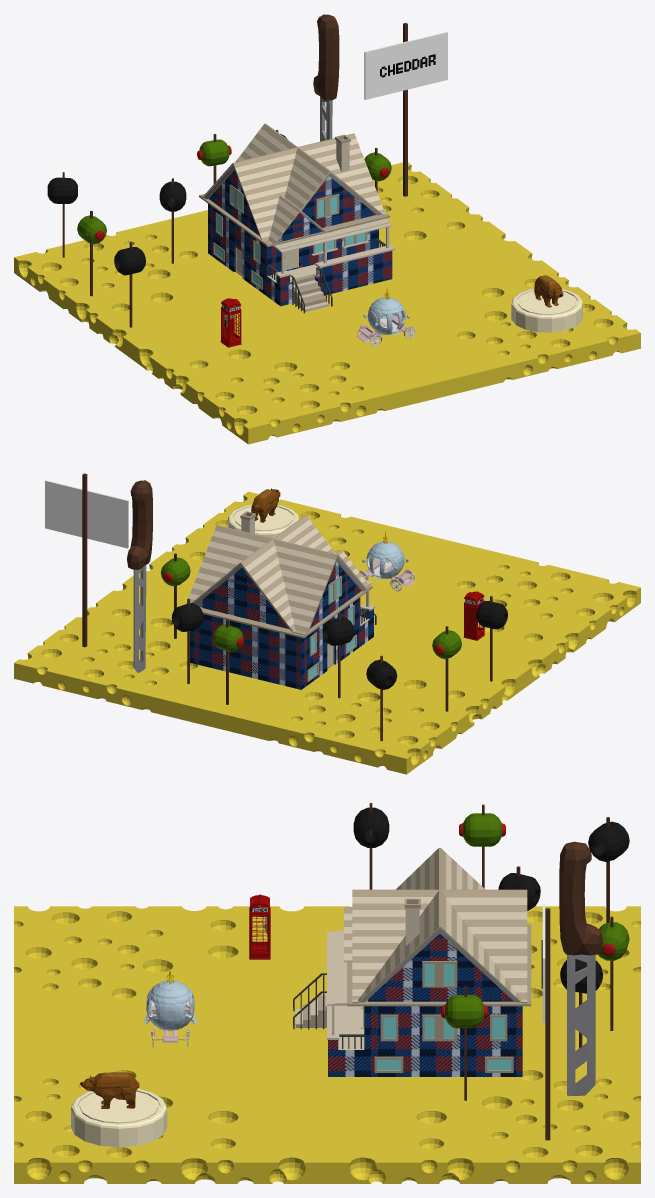
The picture shows the model from 3 angles, top to bottom: view 1: azimuth 30°, elevation 25°; view 2: azimuth 150°, elevation 25°; view 3: azimuth 270°, elevation 25°; orthographic projection. The views are drawn at different scales.
Parts seen in each view (by area): view 1: Cube.022, Cube.171, Cube.023, Cylinder.016, Cube.024, VEHICLES_FANTASY_CARRIAGE, Sphere.017, OBJRANDOM_PHONEBOOTH, Sphere.016, Sphere.020, Sphere.018, Sphere.022 (+2 smaller); view 2: Cube.022, Cube.171, Cube.023, Cube.024, VEHICLES_FANTASY_CARRIAGE, Cylinder.016, Sphere.017, Sphere.020, Sphere.021, Sphere.016, Sphere.018, Sphere.022 (+3 smaller); view 3: Cube.022, Cube.171, Cube.024, Cylinder.016, VEHICLES_FANTASY_CARRIAGE, Cube.023, Sphere.019, Sphere.016, ANIMAL_OSO, Sphere.018, Sphere.017, OBJRANDOM_PHONEBOOTH (+3 smaller).
Part boxes in pixels (left/top/right/bottom): Cube.022: left=14, top=162, right=640, bottom=444; Cube.171: left=199, top=123, right=395, bottom=313; Cube.023: left=364, top=23, right=447, bottom=196; Cylinder.016: left=511, top=288, right=582, bottom=332; Cube.024: left=313, top=14, right=339, bottom=141; VEHICLES_FANTASY_CARRIAGE: left=356, top=288, right=415, bottom=347; Sphere.017: left=114, top=242, right=145, bottom=327; OBJRANDOM_PHONEBOOTH: left=220, top=298, right=241, bottom=347; Sphere.016: left=47, top=172, right=77, bottom=257; Sphere.020: left=159, top=178, right=186, bottom=263; Sphere.018: left=77, top=210, right=106, bottom=296; Sphere.022: left=197, top=134, right=231, bottom=183; Cube.022: left=14, top=491, right=640, bottom=774; Cube.171: left=184, top=511, right=376, bottom=689; Cube.023: left=45, top=473, right=128, bottom=647; Cube.024: left=127, top=480, right=152, bottom=672; VEHICLES_FANTASY_CARRIAGE: left=359, top=531, right=415, bottom=591; Cylinder.016: left=228, top=504, right=298, bottom=538; Sphere.017: left=476, top=596, right=507, bottom=681; Sphere.020: left=322, top=612, right=354, bottom=698; Sphere.021: left=171, top=598, right=203, bottom=683; Sphere.016: left=366, top=655, right=397, bottom=741; Sphere.018: left=432, top=626, right=461, bottom=711; Sphere.022: left=212, top=619, right=244, bottom=704; Cube.022: left=14, top=906, right=640, bottom=1183; Cube.171: left=293, top=848, right=531, bottom=1076; Cube.024: left=559, top=841, right=602, bottom=1095; Cylinder.016: left=71, top=1088, right=167, bottom=1147; VEHICLES_FANTASY_CARRIAGE: left=144, top=968, right=197, bottom=1047; Cube.023: left=541, top=904, right=550, bottom=1140; Sphere.019: left=441, top=986, right=487, bottom=1100; Sphere.016: left=588, top=817, right=629, bottom=922; ANIMAL_OSO: left=80, top=1072, right=139, bottom=1108; Sphere.018: left=459, top=804, right=505, bottom=888; Sphere.017: left=353, top=803, right=389, bottom=889; OBJRANDOM_PHONEBOOTH: left=249, top=894, right=270, bottom=959.
Size of the model in its own units: 3917 by 2108 by 4000.
Materials: 36 (4 with a texture image).
